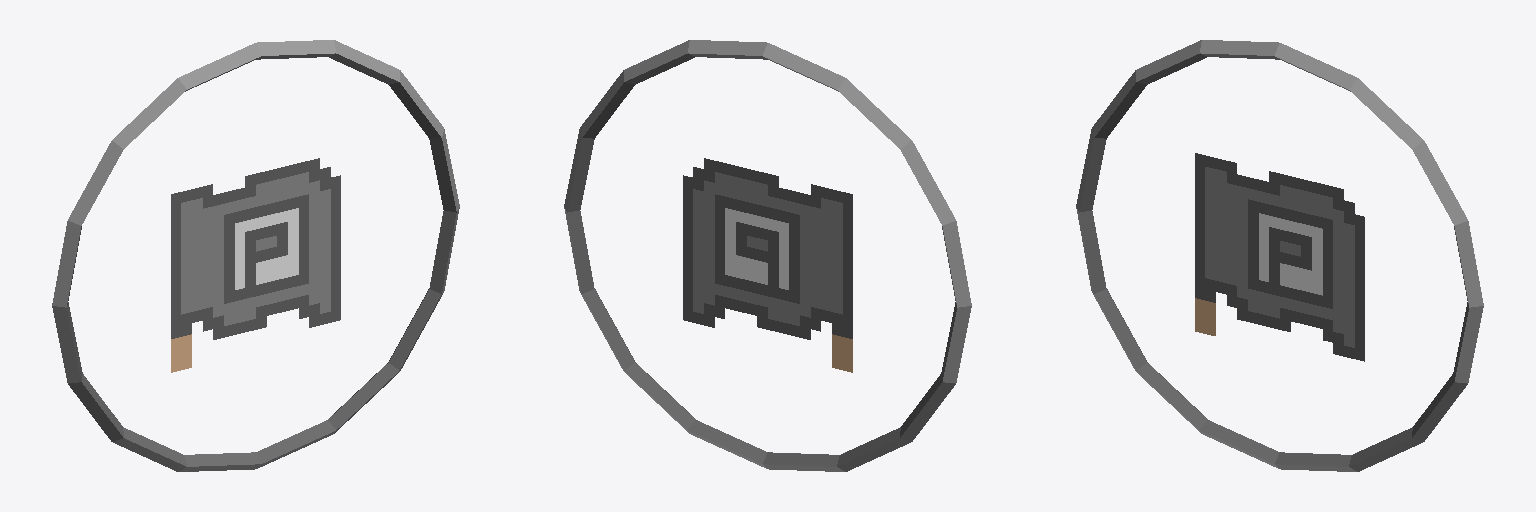
3 renders of one model, left to right at view 1: azimuth 30°, elevation 25°; view 2: azimuth 150°, elevation 25°; view 3: azimuth 330°, elevation 25°, orthographic.
Visible parts, largest first — view 1: Circle; view 2: Circle; view 3: Circle.
Part boxes in pixels (x1,y1,x2,y2): Circle: (52, 40, 459, 471); Circle: (564, 40, 971, 471); Circle: (1076, 40, 1483, 471).
Bounding box in the file's own units: 3.07 × 3.07 × 0.1493.
1 materials, 1 textured.